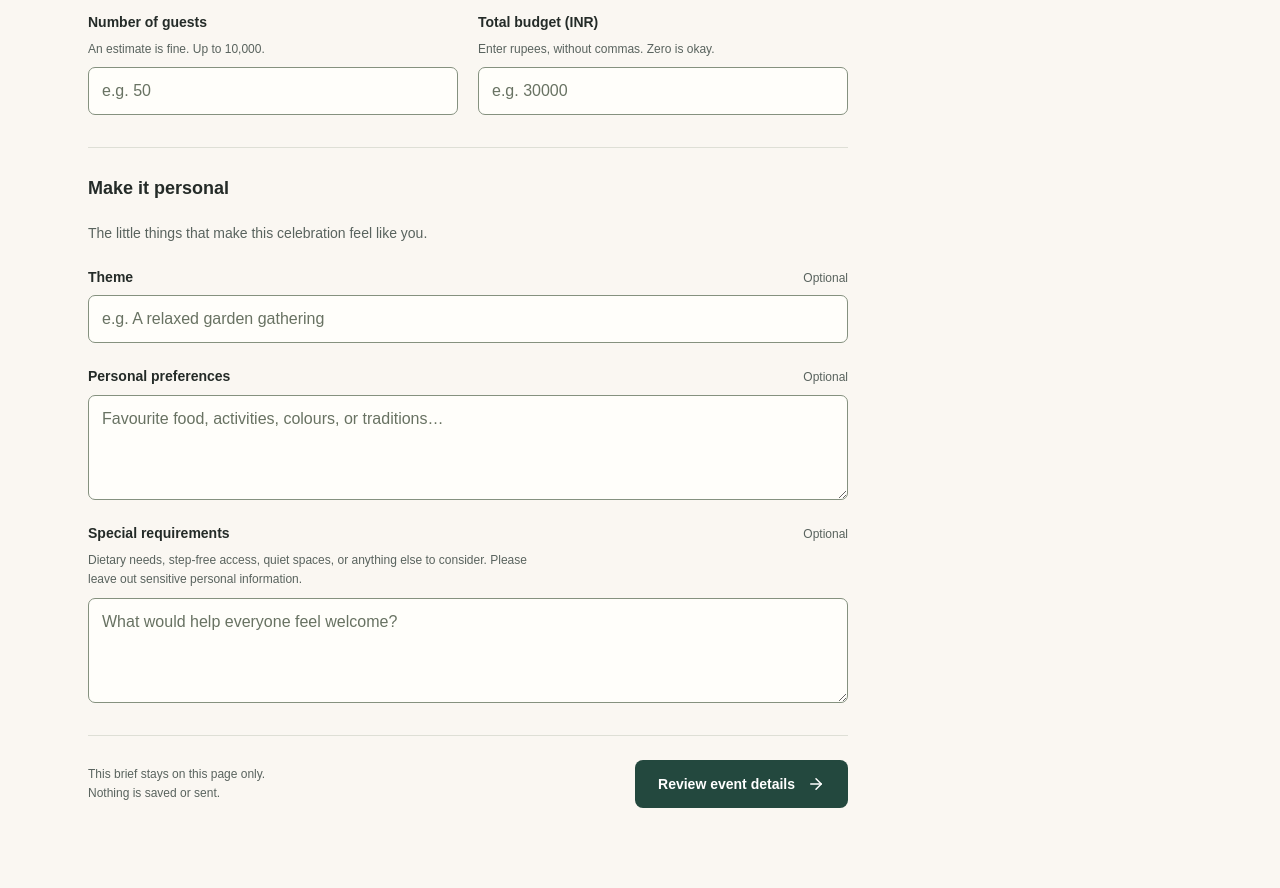
accessible event form › announces validation errors, associates them to inputs, and focuses the first invalid field
(page scrolled)
Click the button "Review event details".
click(742, 784)  # box [635,760,848,808]
(page scrolled)
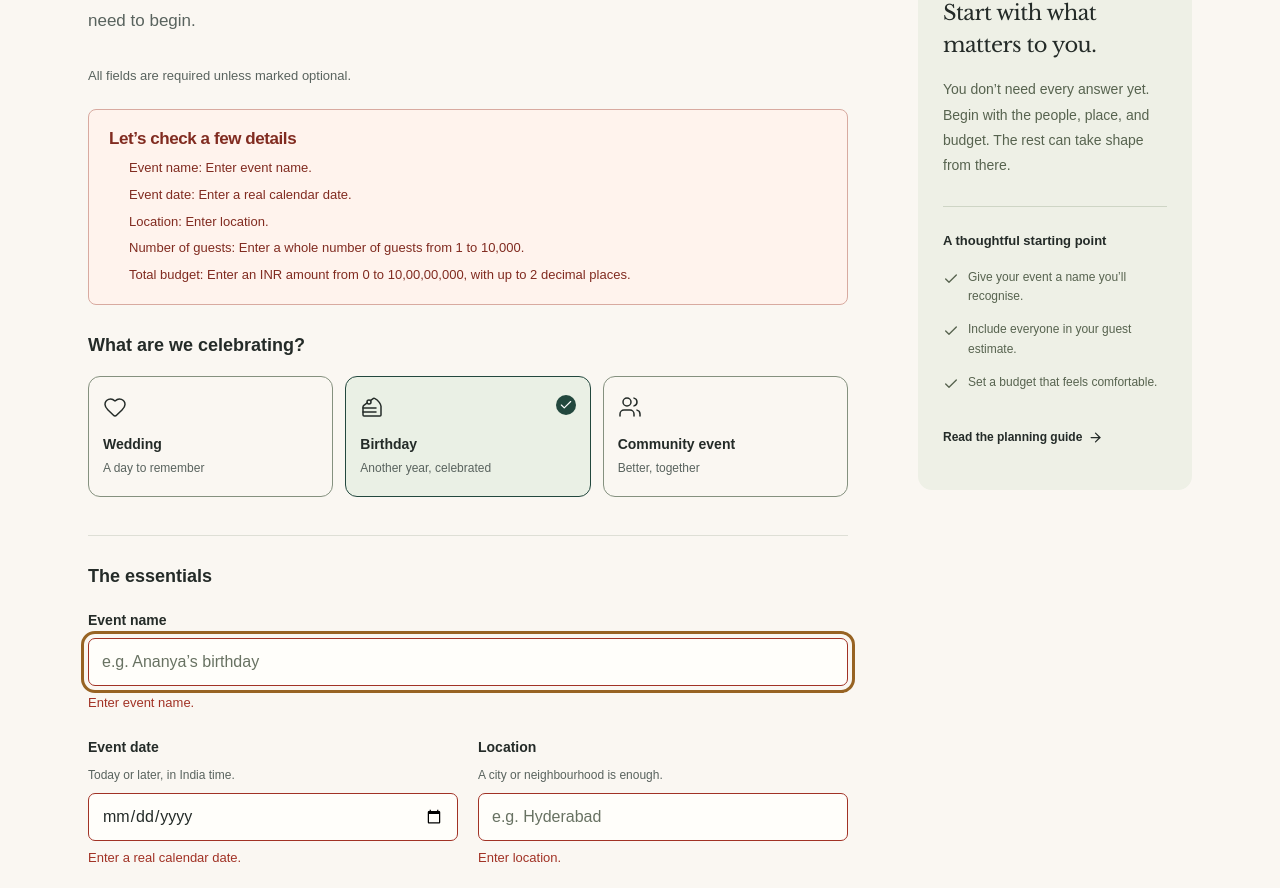
Expected: the message shows "Let’s check a few details", [109,129,296,148]
